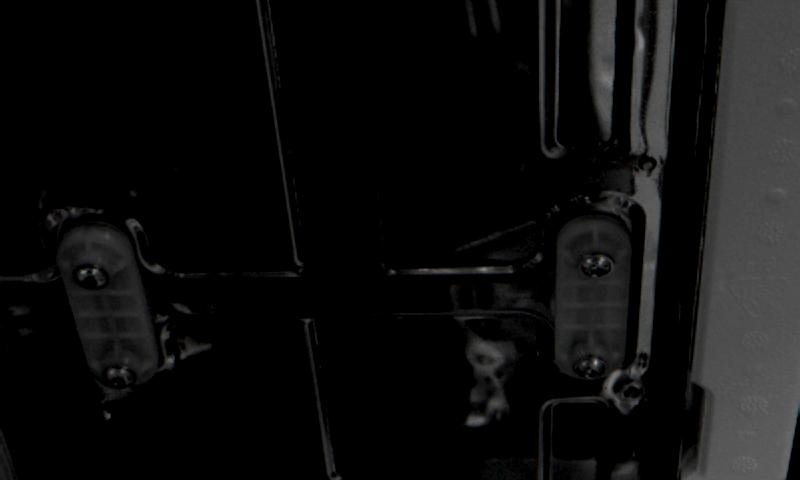vida-ok: (577, 245, 621, 290), (72, 255, 112, 300), (99, 358, 142, 398), (572, 348, 612, 386)
